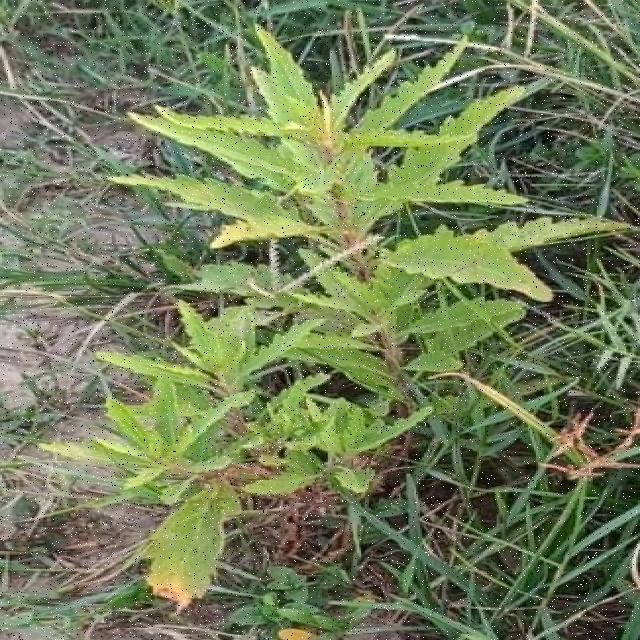weed: (49, 25, 626, 608), (247, 378, 432, 495)
